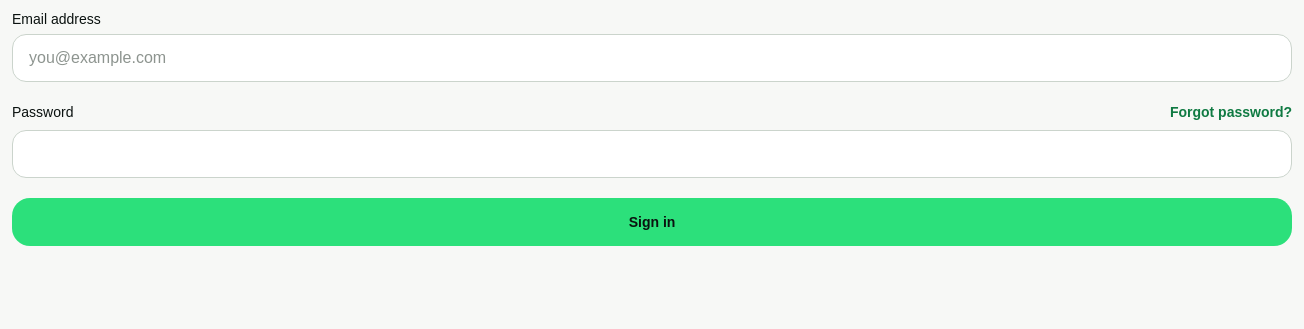
Test: auth forms › renders a generic sign-in error without exposing provider details
The image size is (1304, 329).
In the field labelled "Email address": {"x": 652, "y": 58} [12,34,1292,82], type "fan@example.com"
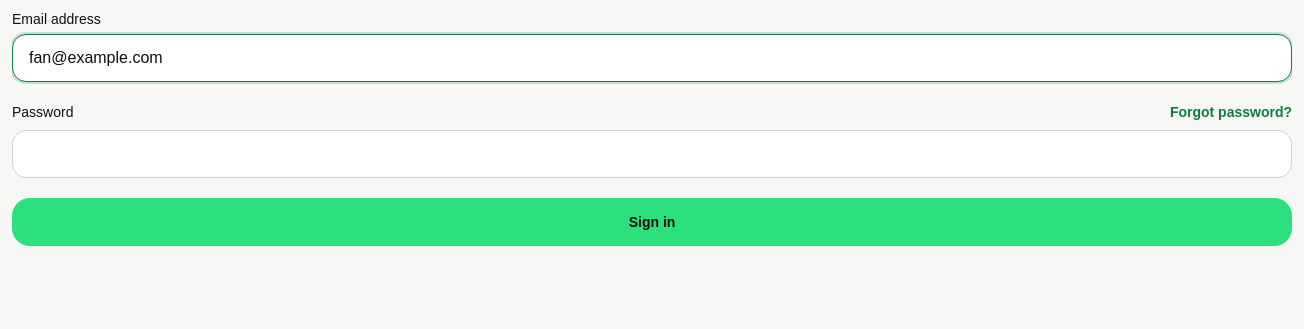
In the password field labelled "Password": {"x": 652, "y": 154} [12,130,1292,178], type "matchday-strong"
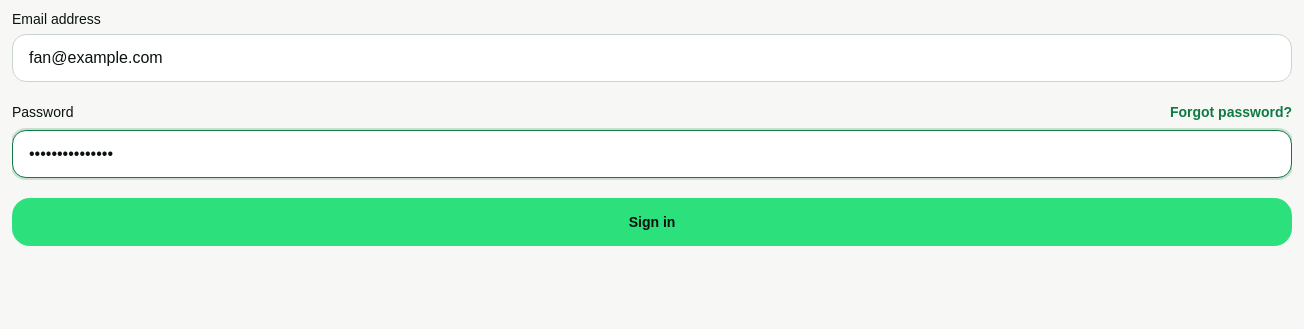
Click the button "Sign in": {"x": 652, "y": 222} [12,198,1292,246]
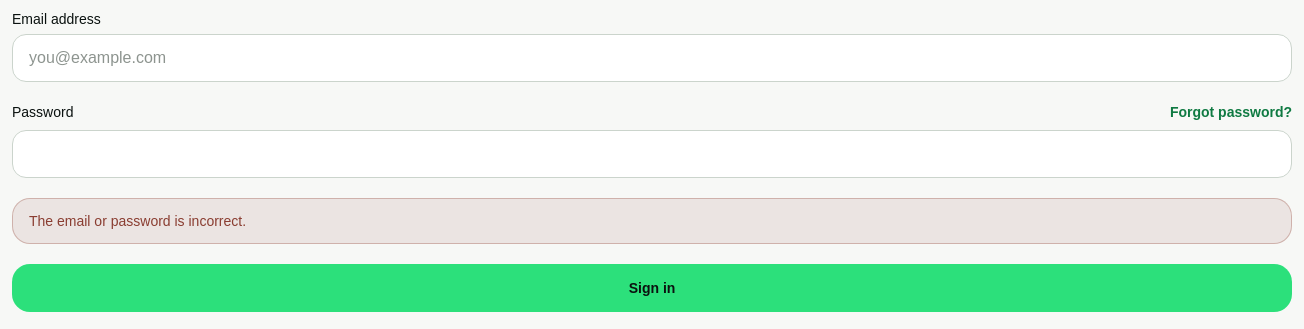
Expected: the message reads "The email or password is incorrect.", [29,213,246,229]
